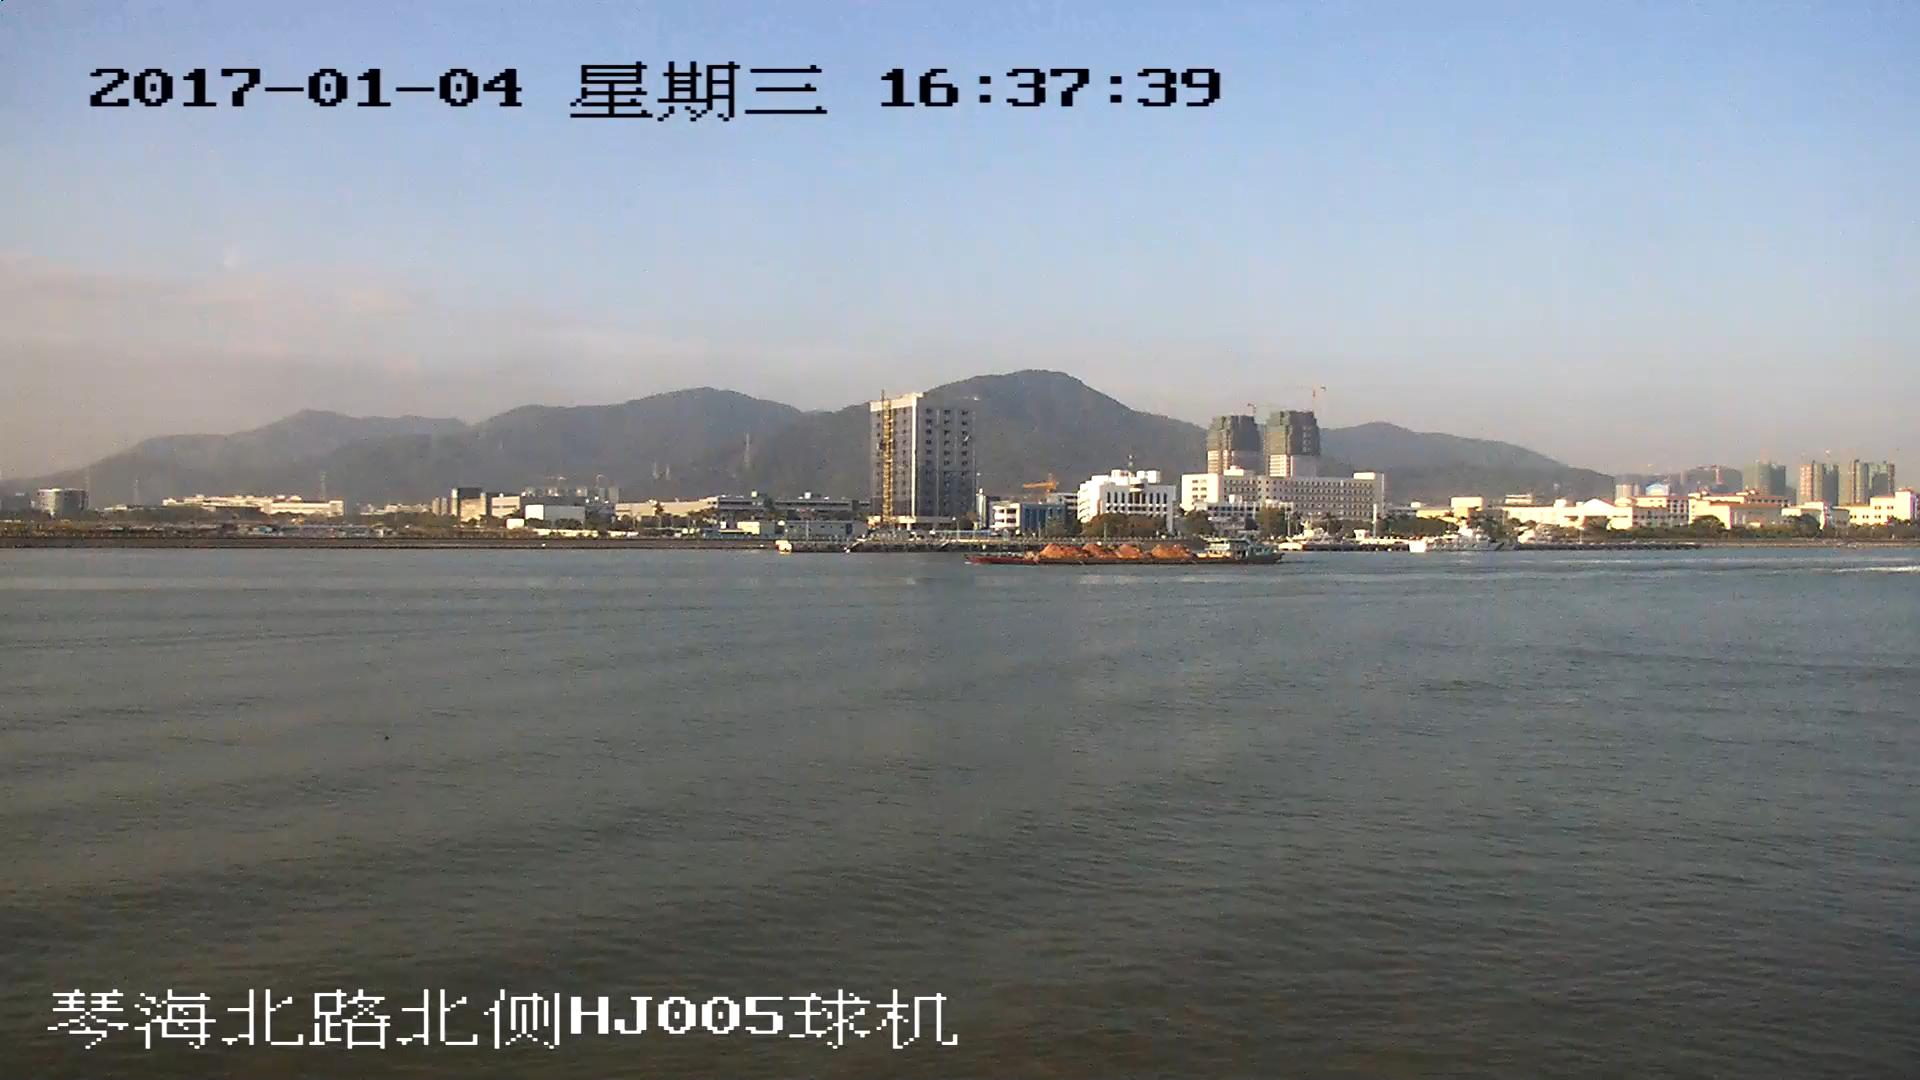ore carrier: (971, 538, 1280, 566)
